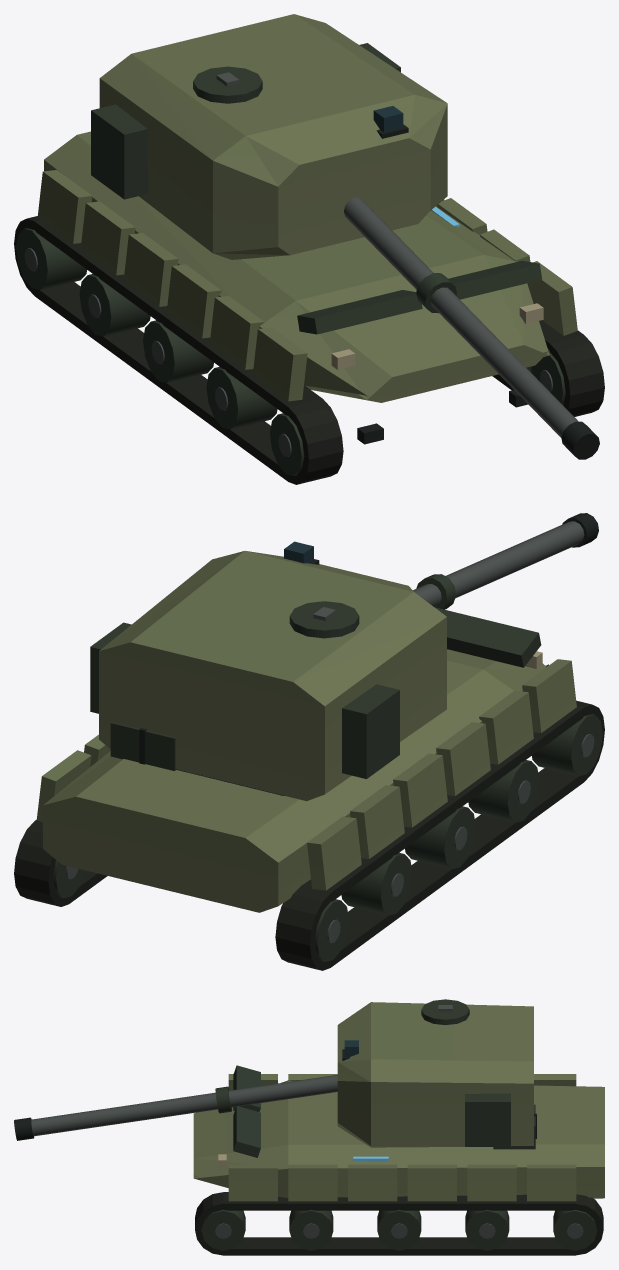
The model's file is artillery-lod.glb.
3 renders of one model, top to bottom at view 1: azimuth 30°, elevation 25°; view 2: azimuth 150°, elevation 25°; view 3: azimuth 270°, elevation 25°, orthographic. The views are drawn at different scales.
Parts seen in each view (by area): view 1: equipment (×3); view 2: equipment (×3); view 3: equipment (×3).
Boxes of the visible parts, <box> form: equipment (×3): <box>14,14,604,484</box>; equipment (×3): <box>14,513,604,970</box>; equipment (×3): <box>14,999,604,1255</box>.
Size of the model in its own units: 3.44 by 2.84 by 8.33.
